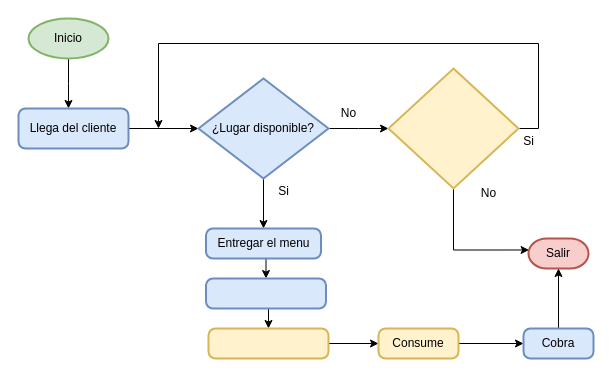
This 611x376 diagram has some shape labels left out. Here are the shapes that lost their labels. From the top down, the box of each, then its label:
(387, 67, 519, 189): ¿Se mantiene en la cola?
(204, 277, 326, 309): Tomar Orden
(207, 327, 329, 359): Espera
